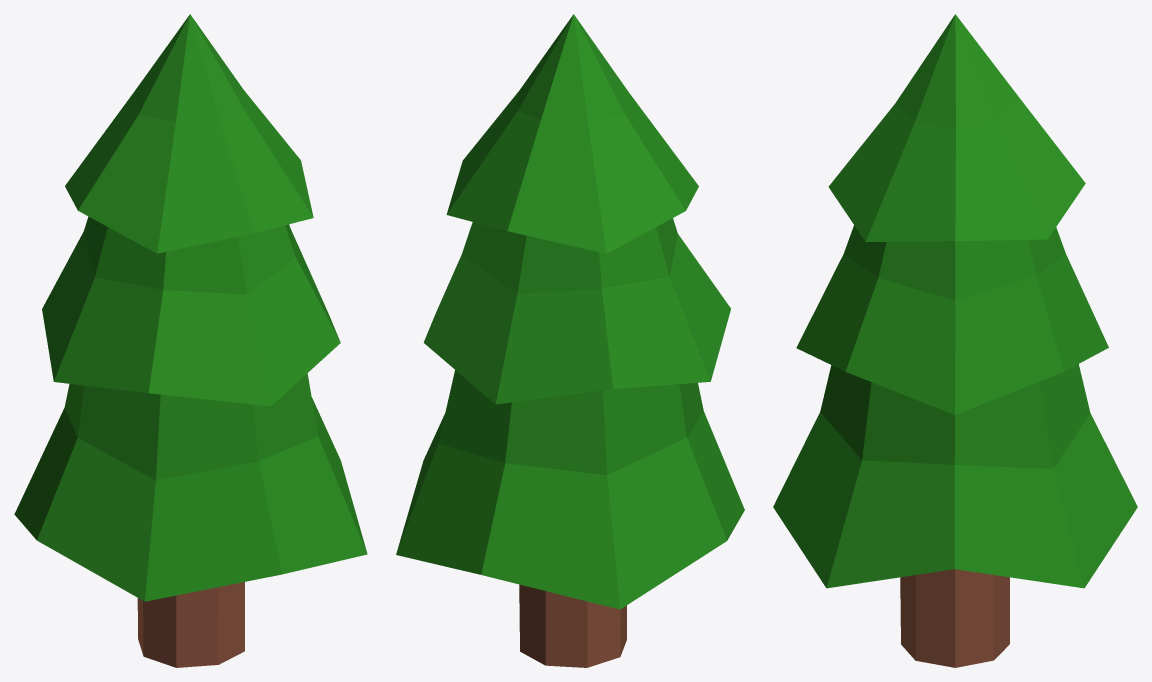
File: TreeGreen.obj
3 renders of one model, left to right at view 1: azimuth 30°, elevation 25°; view 2: azimuth 150°, elevation 25°; view 3: azimuth 270°, elevation 25°, orthographic.
Visible parts, largest first — view 1: Tree_01_summer; view 2: Tree_01_summer; view 3: Tree_01_summer.
Part boxes in pixels (<box>): Tree_01_summer: <box>14,14,367,667</box>; Tree_01_summer: <box>396,14,744,667</box>; Tree_01_summer: <box>773,14,1137,667</box>.
Bounding box in the file's own units: 0.8322 × 1.65 × 0.8678.
